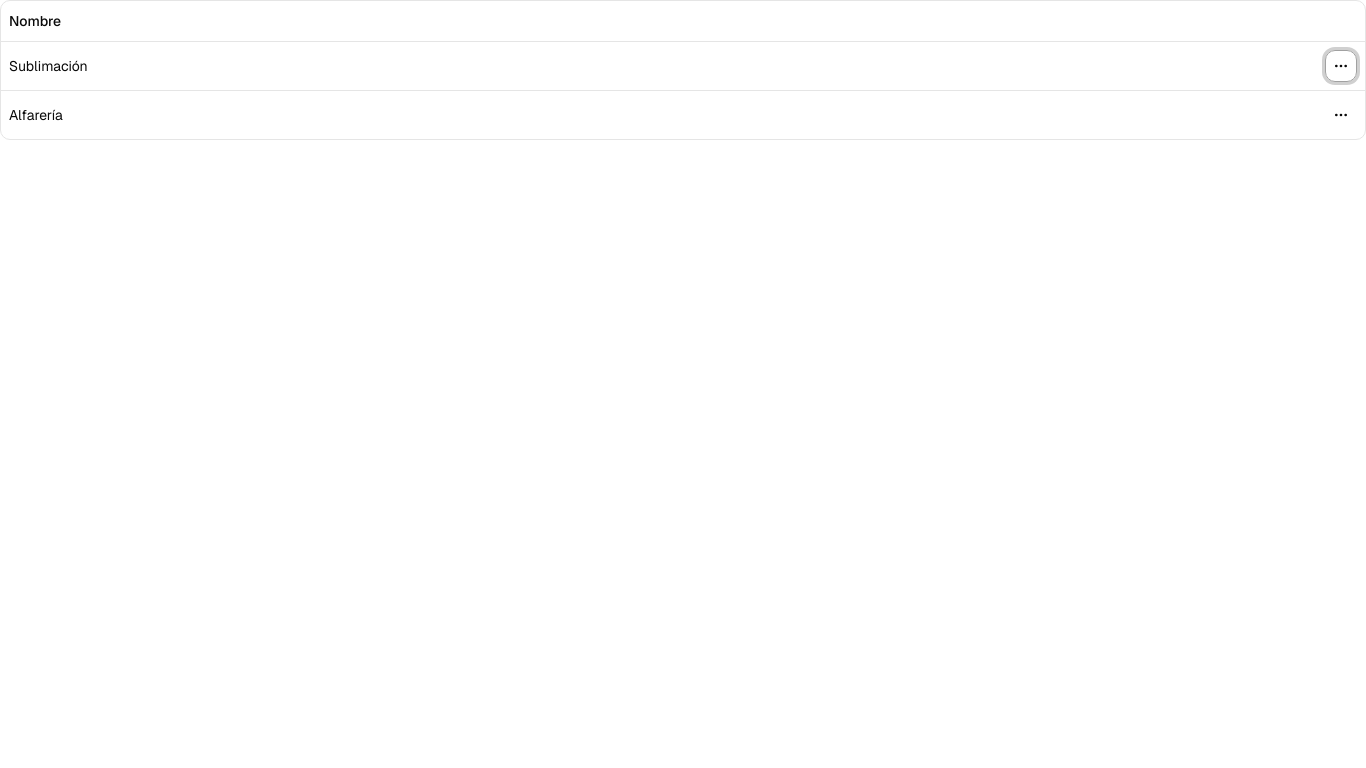
Scenario: diálogos abiertos desde el menú de una fila › al cancelar una confirmación, el foco vuelve al «⋯» de la fila
Press Enter
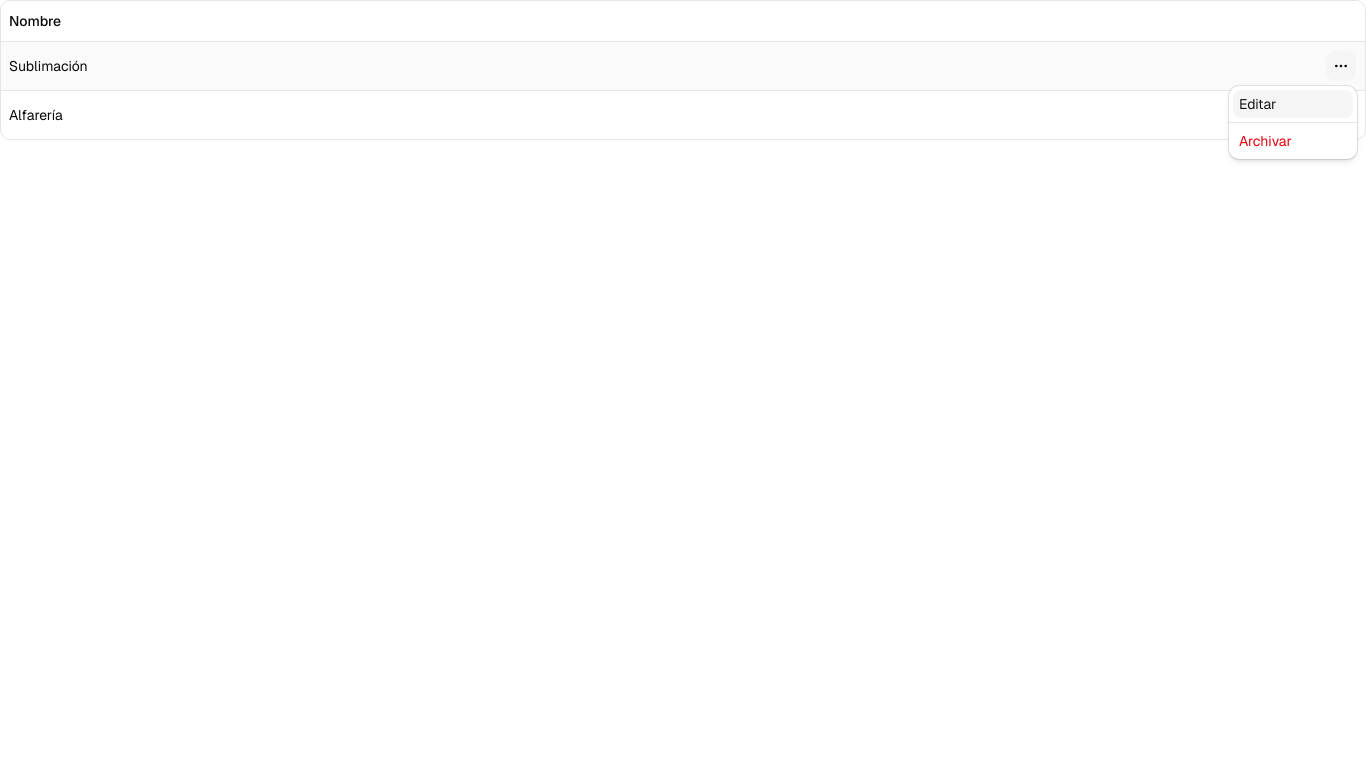
Click the menu item "Archivar" at (1265, 141), box [1239, 132, 1292, 150]
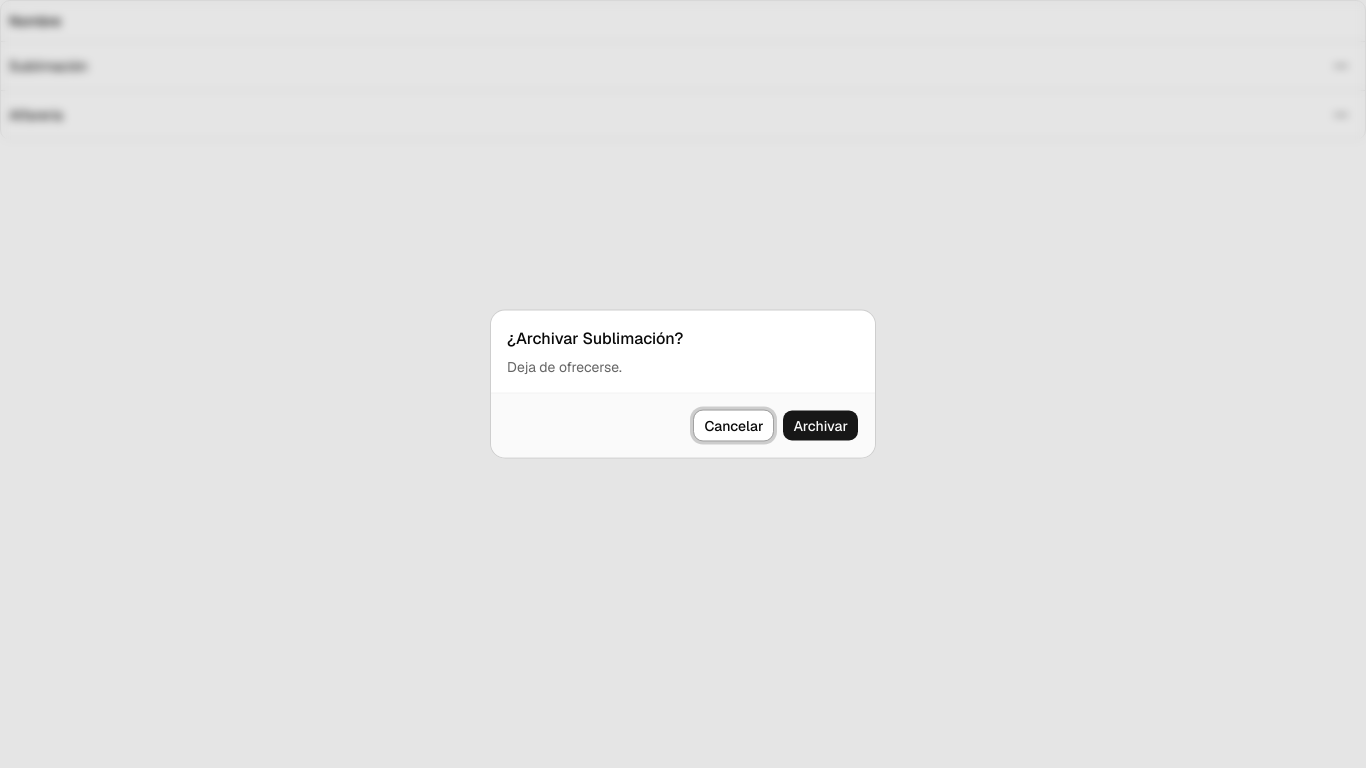
Click the button "Cancelar" at (734, 426), box [694, 410, 774, 442]
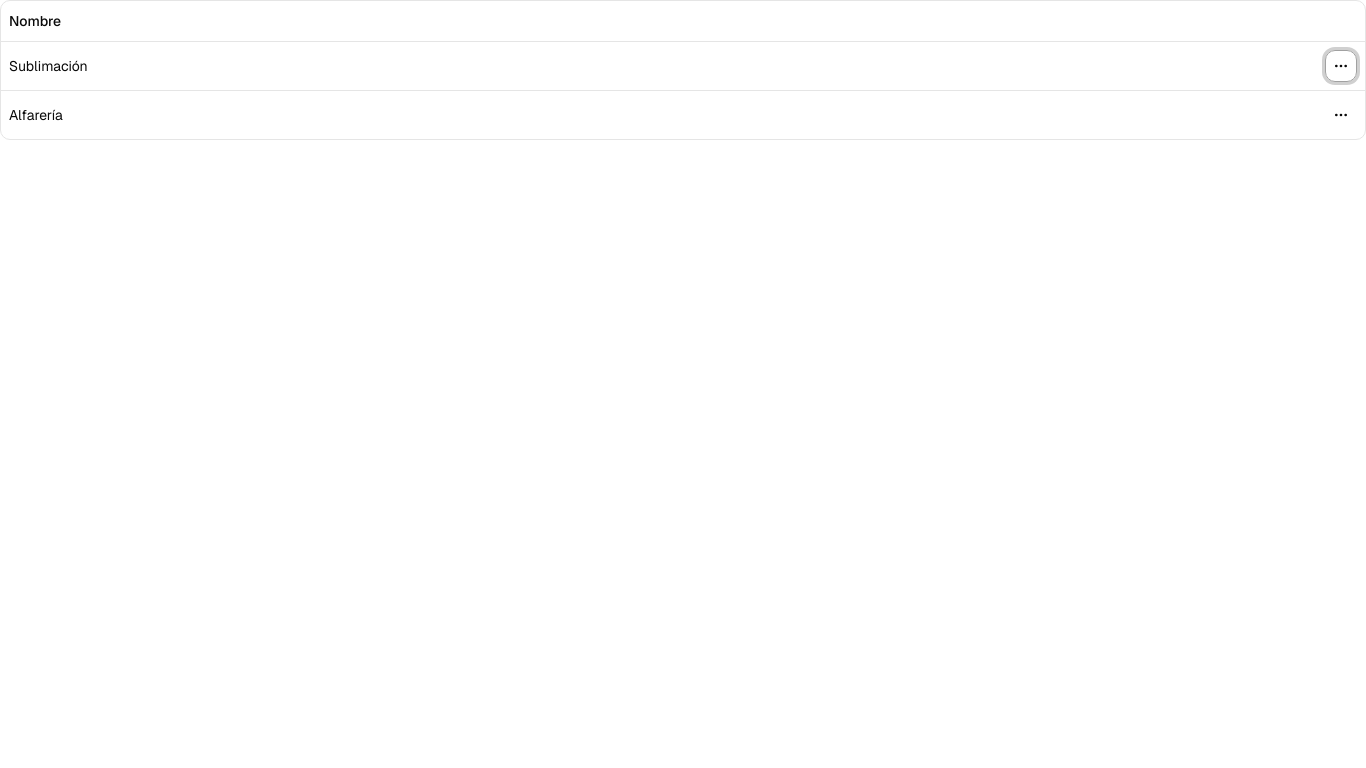
Result: the dialog is gone
